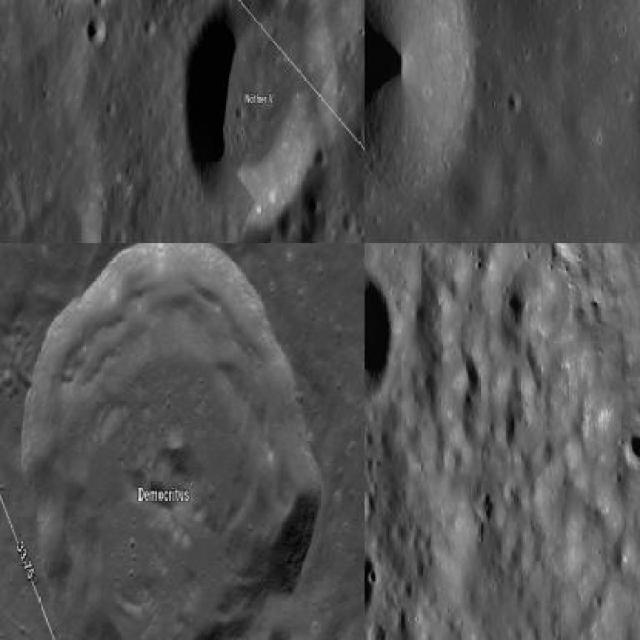crater: (22, 243, 324, 639), (183, 0, 335, 229), (364, 0, 470, 195), (365, 269, 392, 403), (364, 554, 378, 621), (86, 16, 108, 46), (623, 432, 639, 468)
